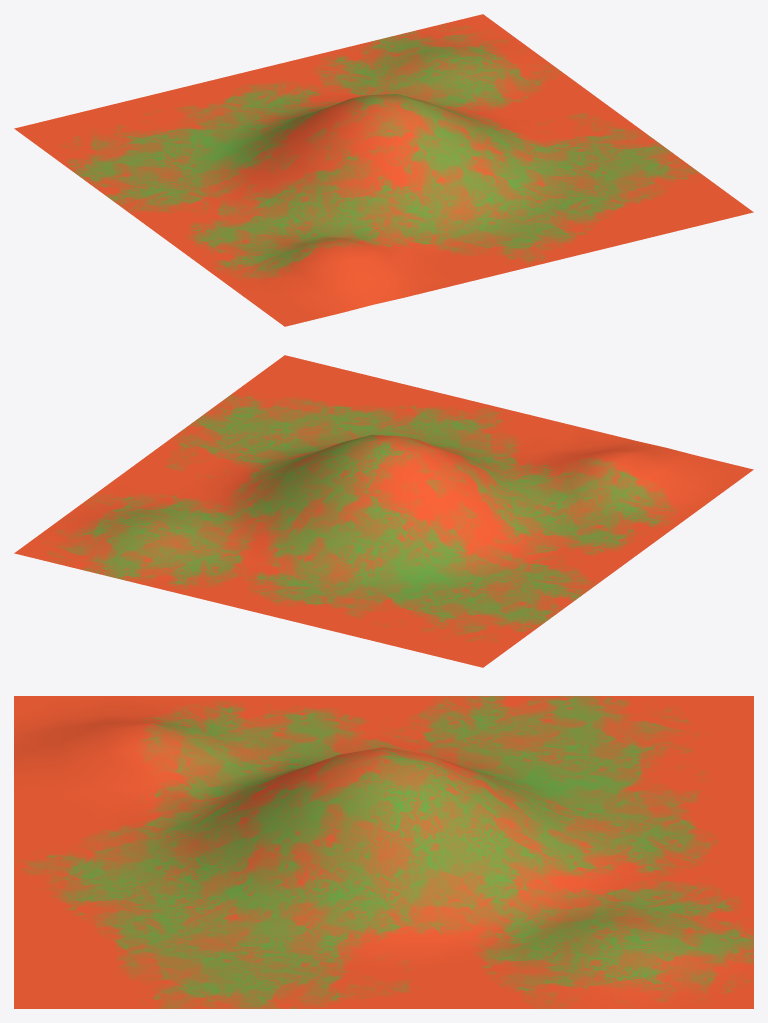
File: tiles2.obj
3 renders of one model, top to bottom at view 1: azimuth 30°, elevation 25°; view 2: azimuth 150°, elevation 25°; view 3: azimuth 270°, elevation 25°, orthographic. The views are drawn at different scales.
Visible parts, largest first — view 1: Tile2_Plane.007; view 2: Tile2_Plane.007; view 3: Tile2_Plane.007.
Boxes of the visible parts, box(x1,y1,x2,y2) form: Tile2_Plane.007: box(14, 14, 753, 326); Tile2_Plane.007: box(14, 355, 753, 667); Tile2_Plane.007: box(14, 696, 753, 1008).
Bounding box in the file's own units: 30 × 4.24 × 30.
1 material, 1 textured.
